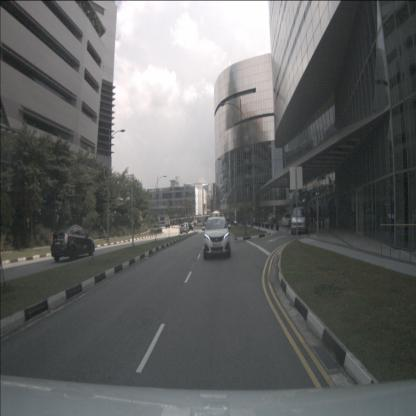vehicle-car: (51, 225, 95, 263), (203, 216, 230, 259), (291, 206, 308, 234), (282, 213, 294, 227), (224, 218, 238, 226), (268, 213, 277, 224), (180, 224, 188, 234), (183, 222, 189, 232), (188, 223, 193, 230)
vehicle-truck: (165, 217, 170, 228)
